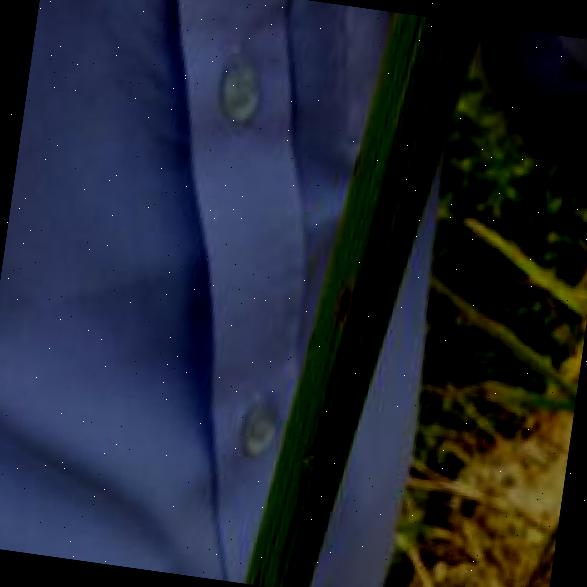Brown_Spot: (296, 475, 331, 544), (323, 266, 358, 331), (372, 142, 410, 196)
